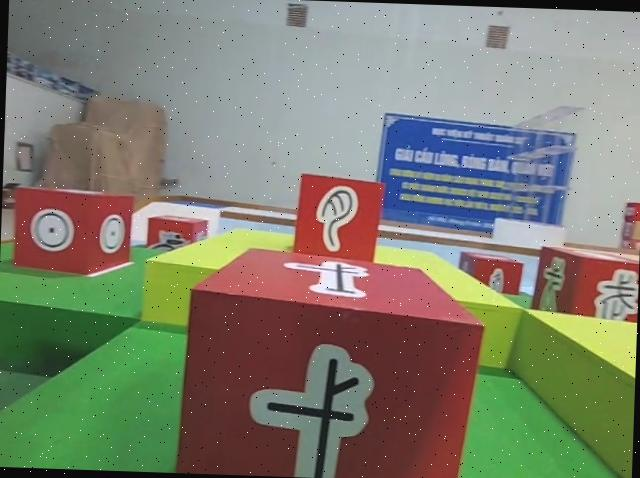R1: (143, 212, 209, 260)
R2 Fake: (526, 241, 640, 327), (294, 169, 386, 264)
R2 Real: (172, 241, 485, 478), (9, 182, 134, 277)
